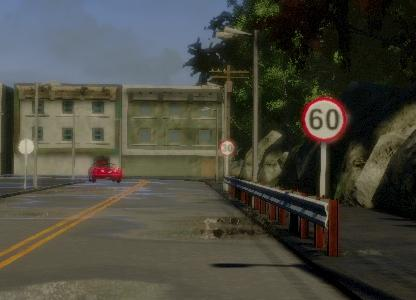Speed_60: (299, 96, 349, 144)
